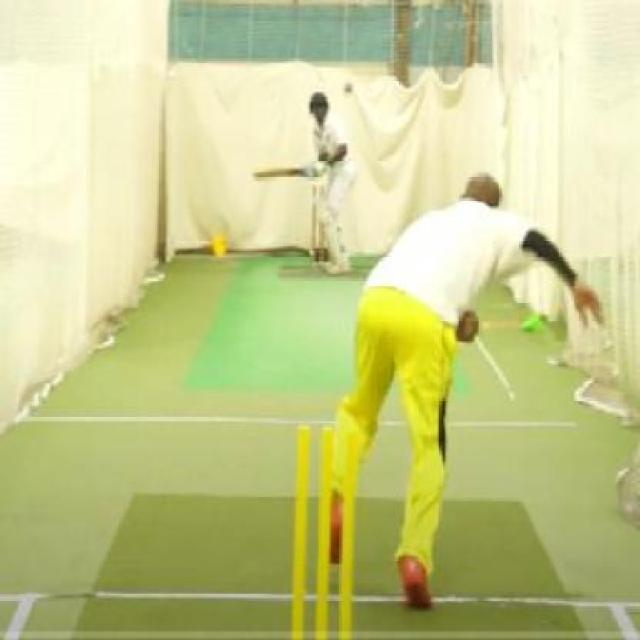ball: (338, 77, 357, 97)
